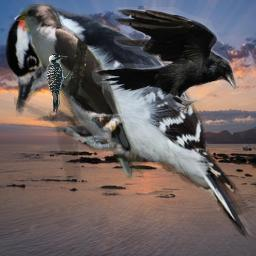Crow: (92, 7, 237, 113)
Cuckoo: (14, 4, 147, 180)
Woodpecker: (2, 3, 256, 244), (45, 53, 75, 113)
